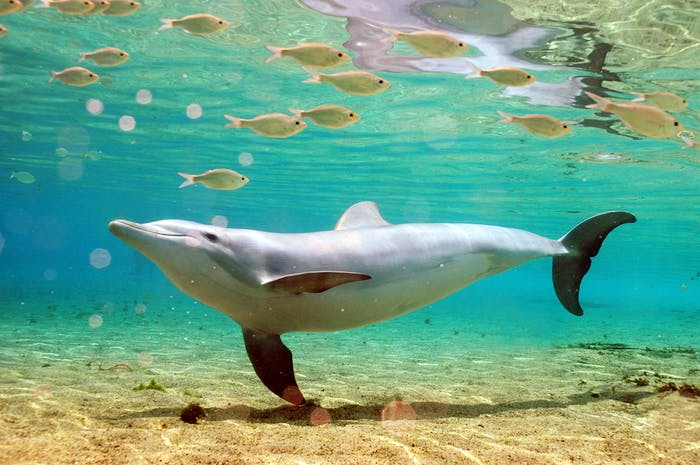dolphin: (94, 202, 656, 408)
fish: (587, 86, 690, 145), (219, 105, 316, 144), (489, 102, 577, 144), (390, 21, 477, 63), (297, 66, 401, 101), (262, 36, 357, 70), (289, 98, 378, 132), (171, 166, 259, 198), (158, 10, 239, 43), (474, 64, 538, 91), (53, 1, 148, 18), (44, 64, 107, 89), (74, 45, 140, 66)
